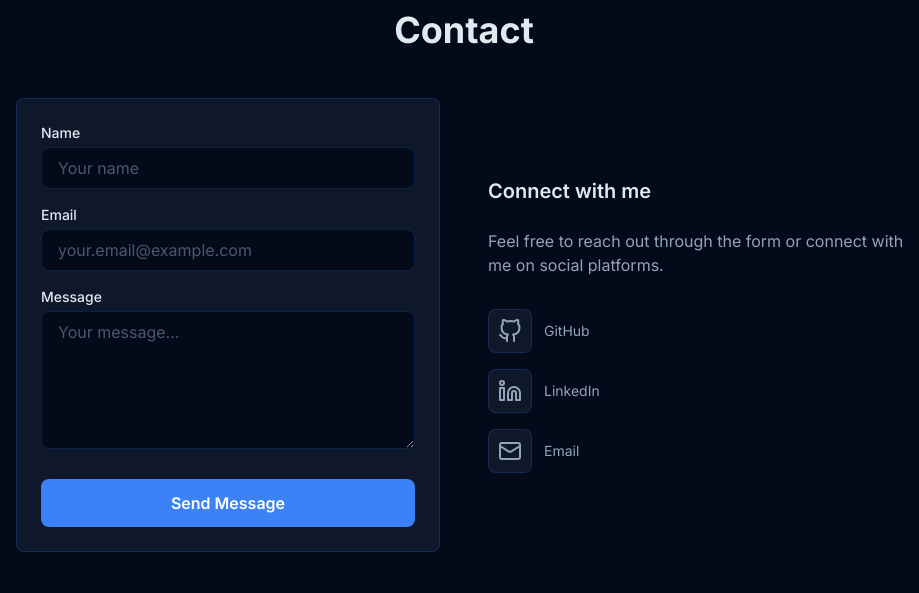
Scenario: ContactSection › Form validation - invalid email › shows "Please enter a valid email address" for invalid email format
Type "John Doe" into the field labelled "Name".
click(228, 168); type("John Doe")  # box left=41, top=147, right=415, bottom=189
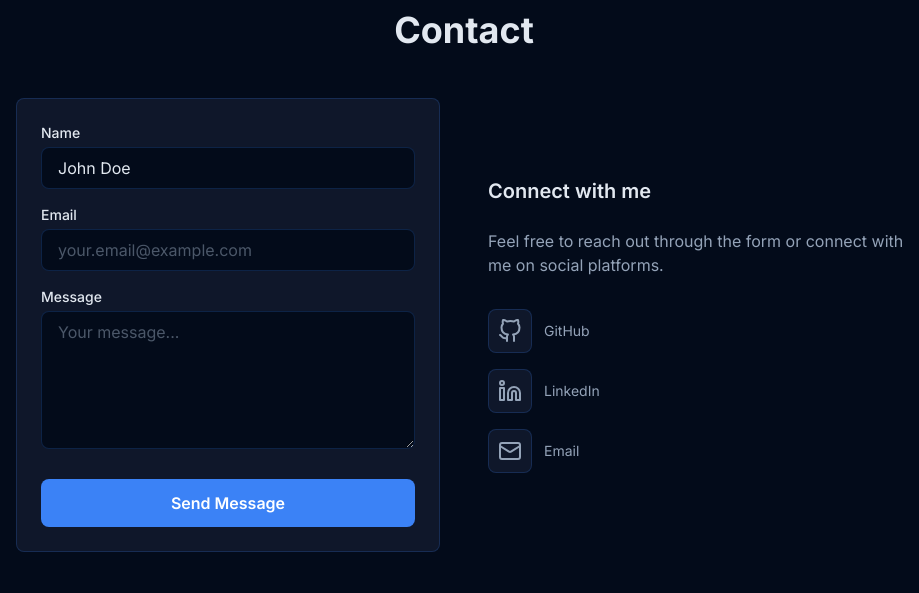
Type "invalid-email" into the field labelled "Email".
click(228, 250); type("invalid-email")  # box left=41, top=229, right=415, bottom=271
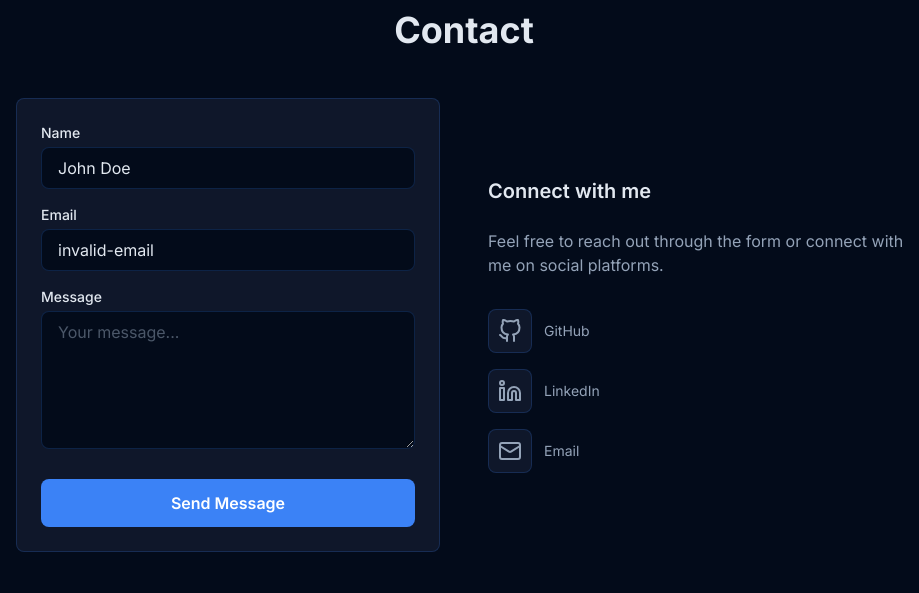
Type "Hello there" into the text box labelled "Message".
click(228, 380); type("Hello there")  # box left=41, top=311, right=415, bottom=449
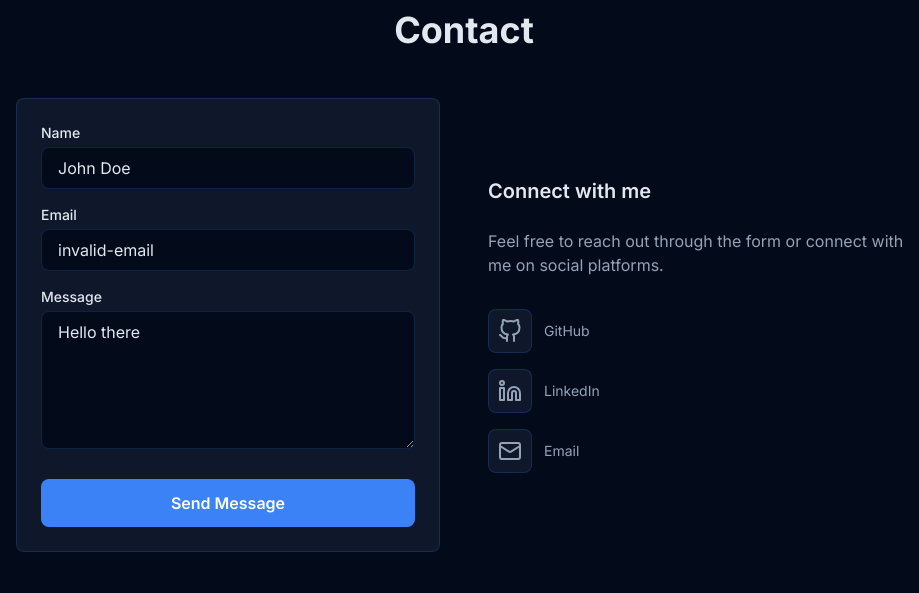
Click the button "Send Message".
click(228, 503)  # box left=41, top=479, right=415, bottom=527
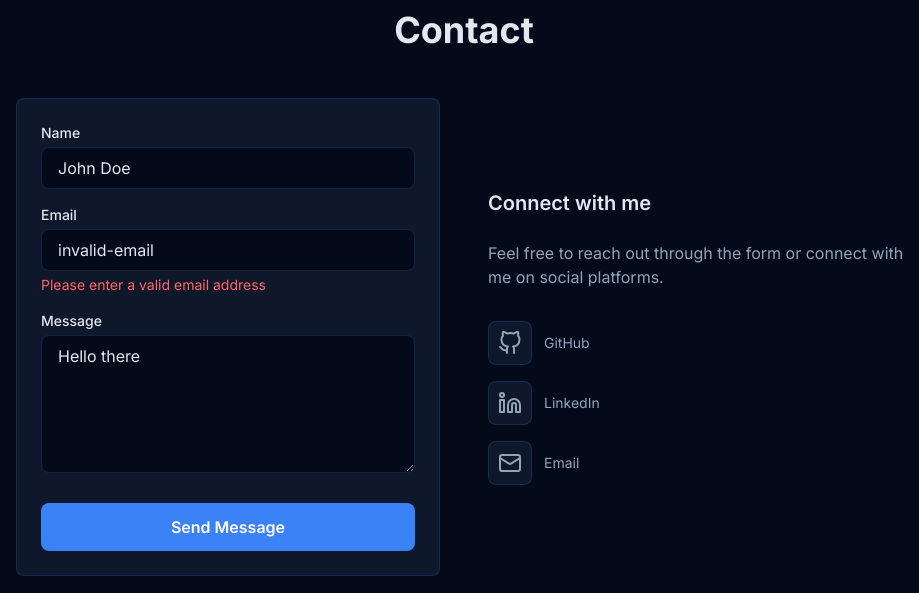
Check: the text "Please enter a valid email address" is shown, box left=41, top=276, right=266, bottom=293
